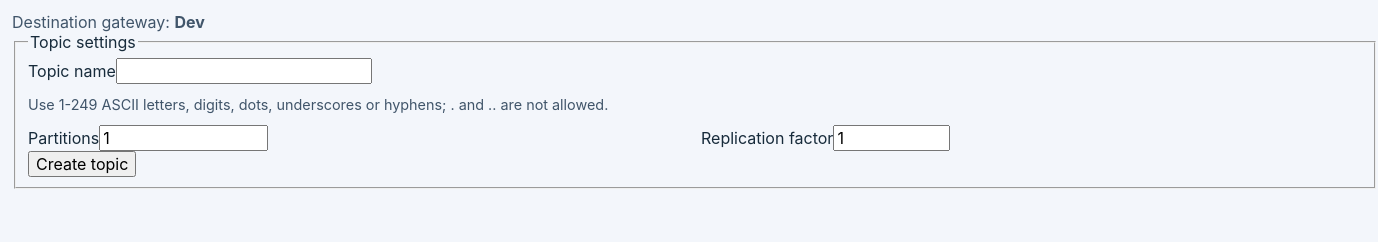
Test case: CreateTopic › reports a conflict without retrying
Type "orders" into the field labelled "Topic name".
click(244, 71); type("orders")  # box [116,58,372,84]
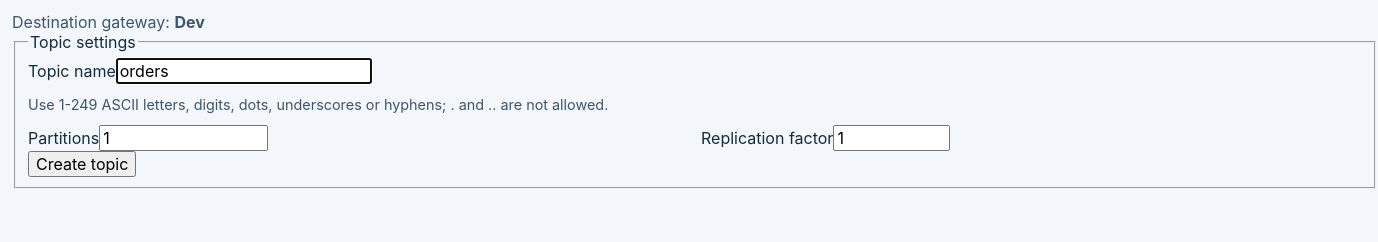
Click the button "Create topic".
click(82, 164)  # box [28,151,136,177]
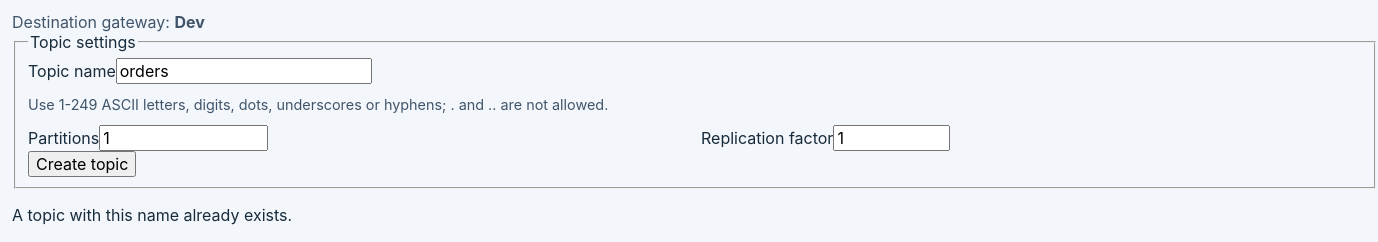
Now the message shows "already exists", box [12,205,292,225]
